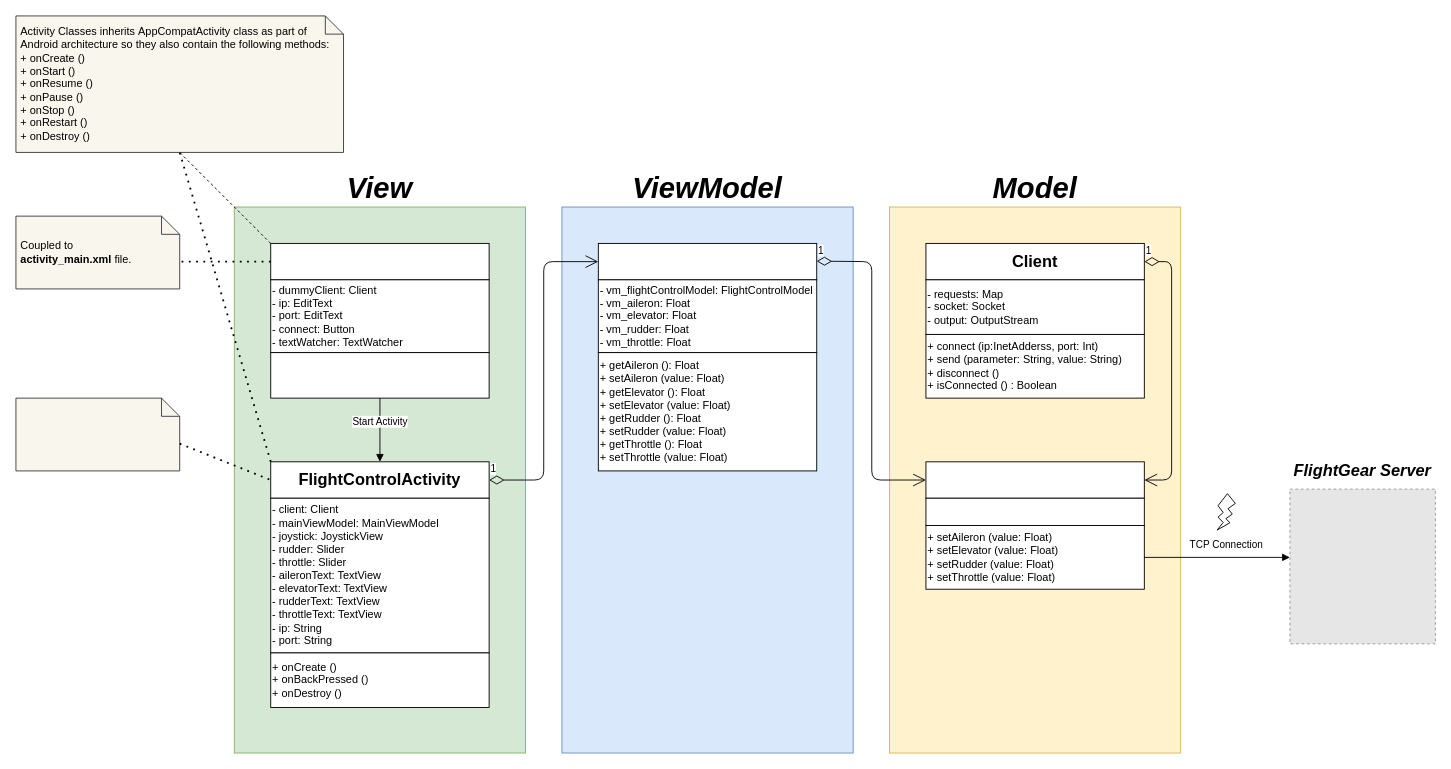
Image size: 1451x769. Some labels were removed from this diagram. Grey dashed boxes stand in for pictures. The shapes that lost their labels are listed below. From the top down, each one's box as (x1, y1, x2, y2) in pixels, then its label:
(270, 243, 489, 280): MainActivity
(597, 243, 817, 280): MainViewModel
(270, 352, 489, 398): + onCreate () - showConnectionErrorMessage (msg: String)
(15, 397, 180, 471): Coupled to activity_flight_control.xml file.
(925, 461, 1144, 498): FlightControlModel
(925, 497, 1144, 526): - client: Client
